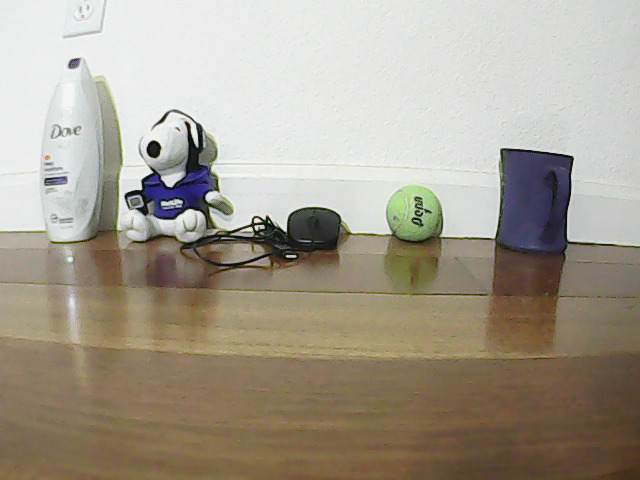ball: (384, 181, 444, 243)
mouse: (281, 198, 344, 253)
mug: (496, 143, 574, 260)
snoopy: (137, 110, 228, 237)
soap: (46, 55, 104, 240)
